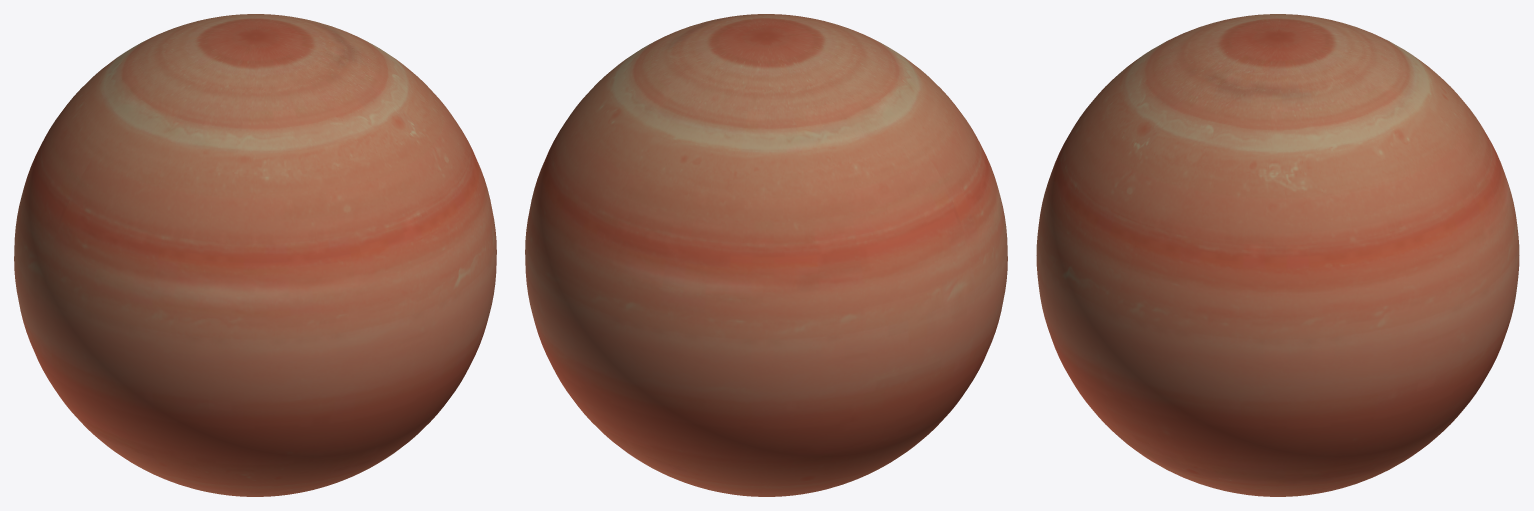
Rendered from Gaia-2 b.glb.
The picture shows the model from 3 angles, left to right: view 1: azimuth 30°, elevation 25°; view 2: azimuth 150°, elevation 25°; view 3: azimuth 270°, elevation 25°; orthographic projection.
Visible parts, largest first — view 1: Gaia-2 b; view 2: Gaia-2 b; view 3: Gaia-2 b.
Boxes of the visible parts, x1=… form: Gaia-2 b: x1=14, y1=14, x2=496, y2=496; Gaia-2 b: x1=525, y1=14, x2=1007, y2=496; Gaia-2 b: x1=1036, y1=14, x2=1519, y2=496.
Size of the model in its own units: 2 by 2 by 2.
Materials: 1 (1 with a texture image).
